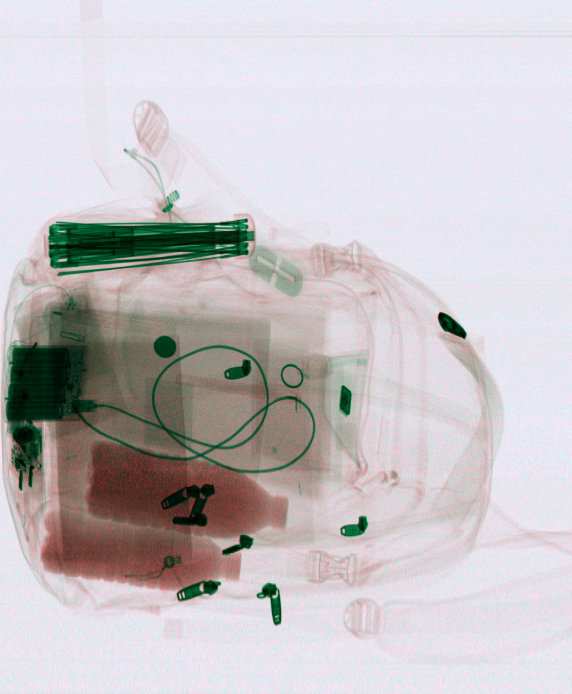Plastic Bottle: (87, 441, 290, 540), (41, 509, 242, 592)
